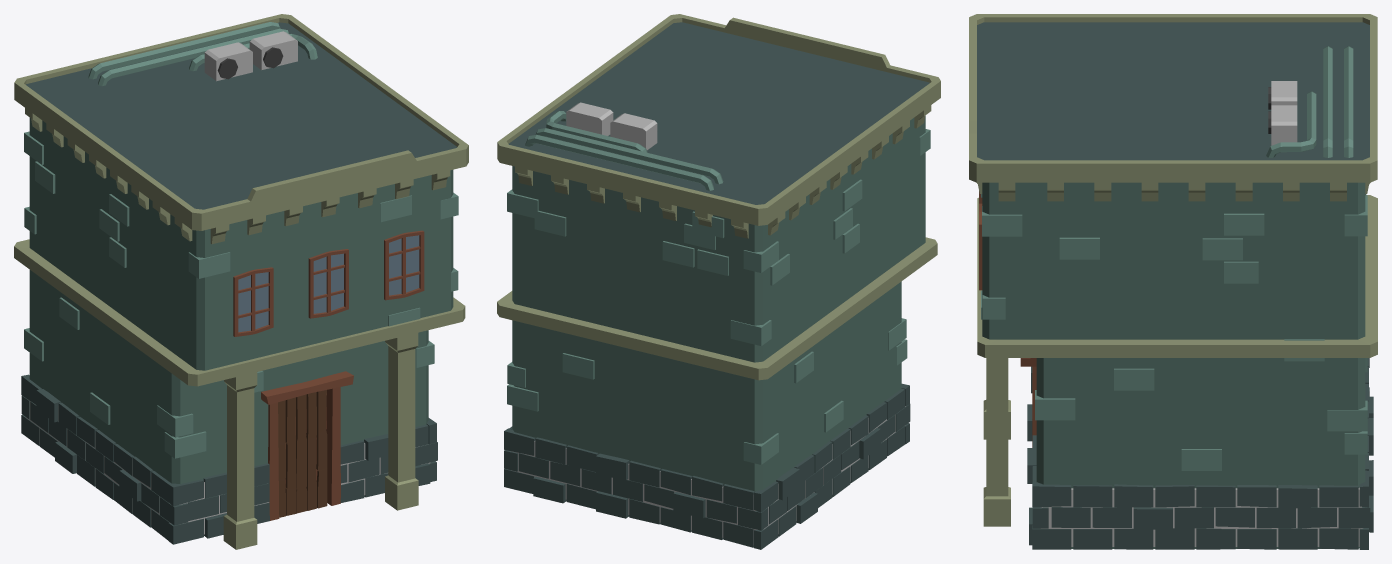
Rendered from 2Story_Columns_Mat.glb.
3 views of the same model, side by side, from view 1: azimuth 30°, elevation 25°; view 2: azimuth 150°, elevation 25°; view 3: azimuth 270°, elevation 25° (orthographic). The views are drawn at different scales.
Visible parts, largest first — view 1: 2Story_Columns_Mat; view 2: 2Story_Columns_Mat; view 3: 2Story_Columns_Mat.
Boxes of the visible parts, <box> form: 2Story_Columns_Mat: <box>14,14,468,549</box>; 2Story_Columns_Mat: <box>497,14,940,549</box>; 2Story_Columns_Mat: <box>969,14,1377,549</box>.
Size of the model in its own units: 2.16 by 2.77 by 2.49.
